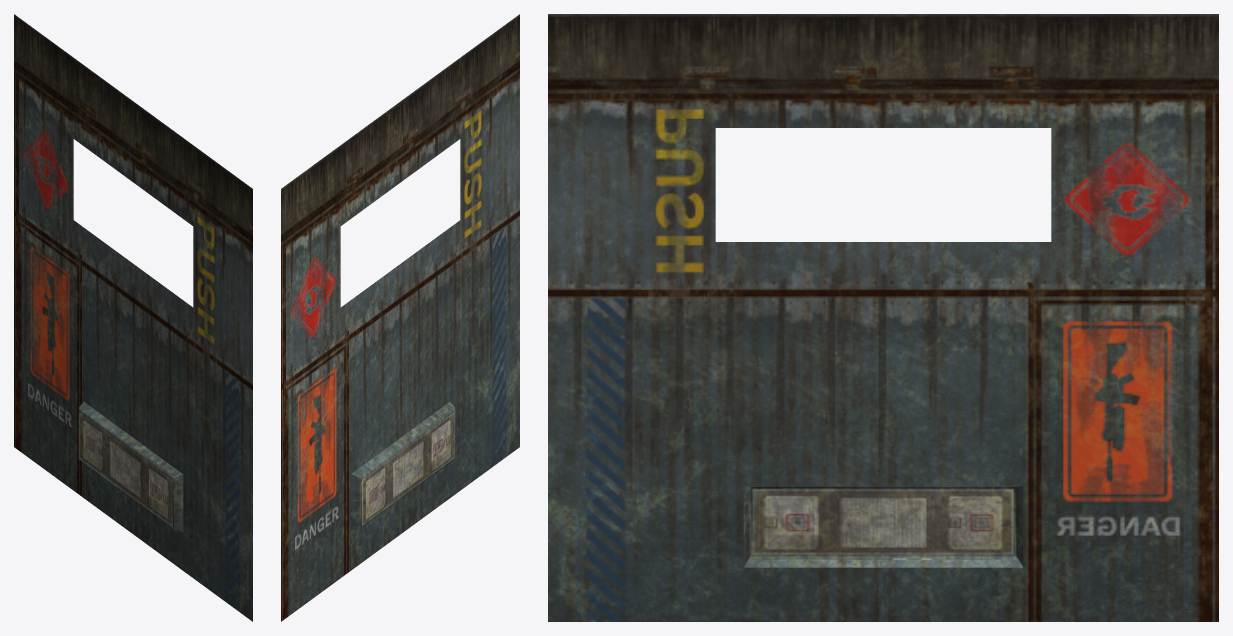
The model's file is SM_Modular_Walls_Two_LP_Plain_Wall6_2.fbx.
3 views of the same model, side by side, from view 1: azimuth 30°, elevation 25°; view 2: azimuth 150°, elevation 25°; view 3: azimuth 270°, elevation 25° (orthographic). The views are drawn at different scales.
Visible parts, largest first — view 1: SM_Modular_Walls_Two_LP_Plain_Wall6_2_LOD0; view 2: SM_Modular_Walls_Two_LP_Plain_Wall6_2_LOD0; view 3: SM_Modular_Walls_Two_LP_Plain_Wall6_2_LOD0.
Part boxes in pixels (left/top/right/bottom): SM_Modular_Walls_Two_LP_Plain_Wall6_2_LOD0: left=14, top=14, right=252, bottom=621; SM_Modular_Walls_Two_LP_Plain_Wall6_2_LOD0: left=281, top=14, right=519, bottom=621; SM_Modular_Walls_Two_LP_Plain_Wall6_2_LOD0: left=548, top=14, right=1218, bottom=621.
Bounding box in the file's own units: 4.59 × 240 × 240.
Materials: 1 (1 with a texture image).
